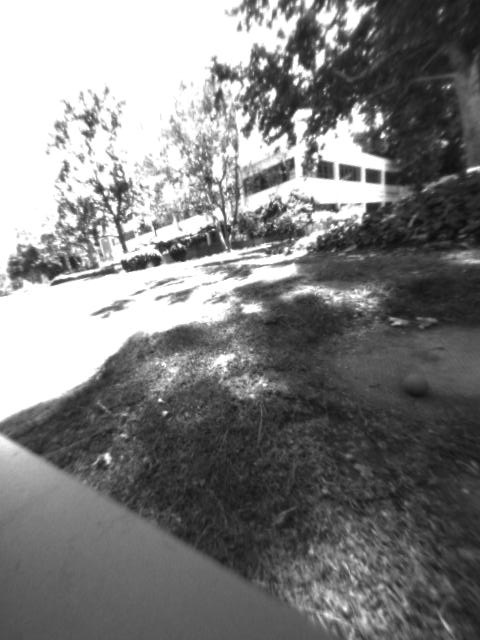dogtoy: (395, 359, 438, 401)
